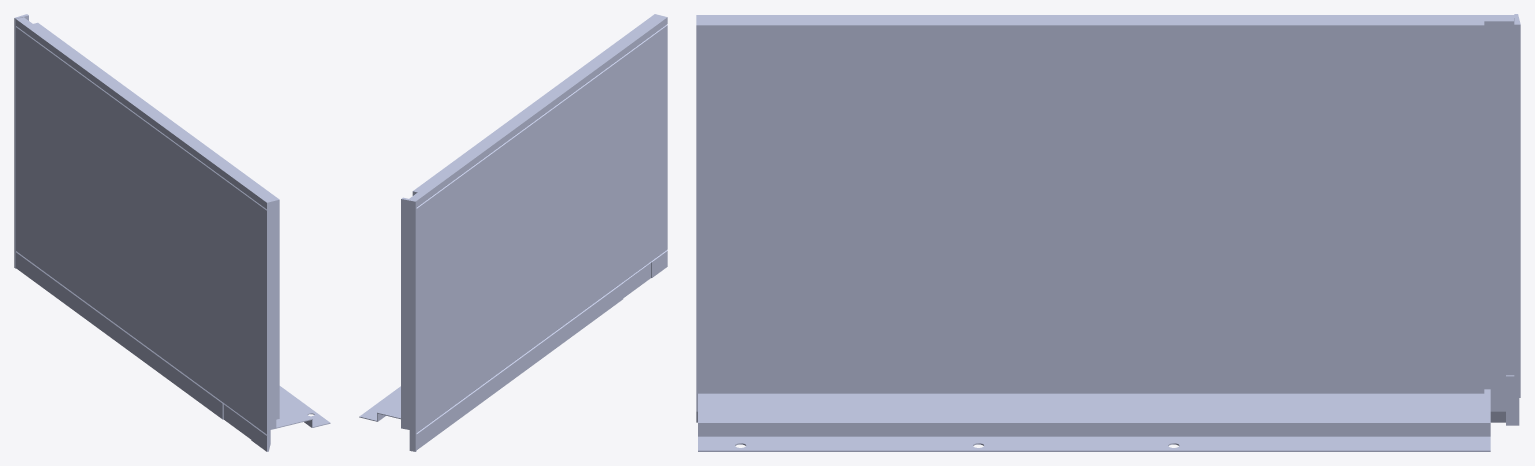
File: lg-kava-F450-p.glb
3 views of the same model, side by side, from view 1: azimuth 30°, elevation 25°; view 2: azimuth 150°, elevation 25°; view 3: azimuth 270°, elevation 25° (orthographic). The views are drawn at different scales.
Parts seen in each view (by area): view 1: 49569788; view 2: 49569788; view 3: 49569788.
Part boxes in pixels (x1=…): 49569788: x1=14, y1=14, x2=330, y2=451; 49569788: x1=359, y1=14, x2=667, y2=451; 49569788: x1=696, y1=14, x2=1520, y2=451.
Size of the model in its own units: 0.0653 by 0.2417 by 0.4435.
